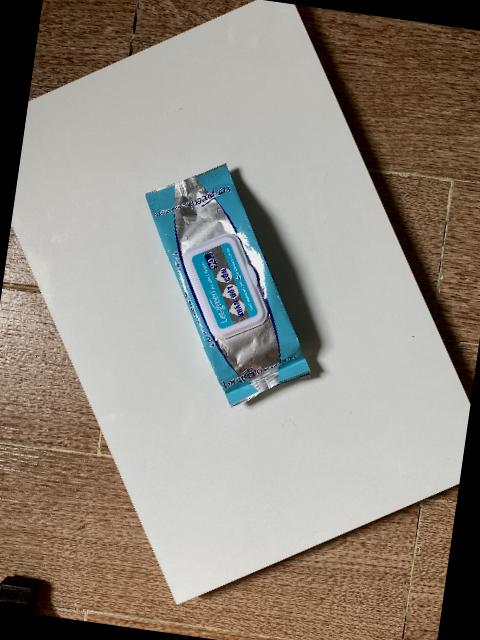Let-green_alcohol_wipes: (144, 163, 314, 409)
